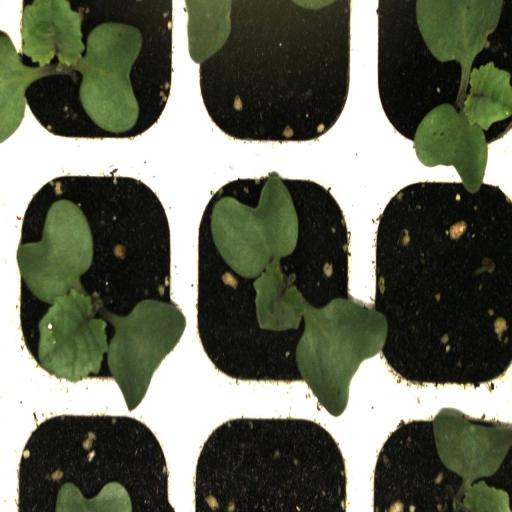noseedling: (363, 163, 512, 403)
seedling: (186, 160, 362, 404), (7, 155, 183, 398), (7, 0, 187, 156), (362, 1, 512, 168)
